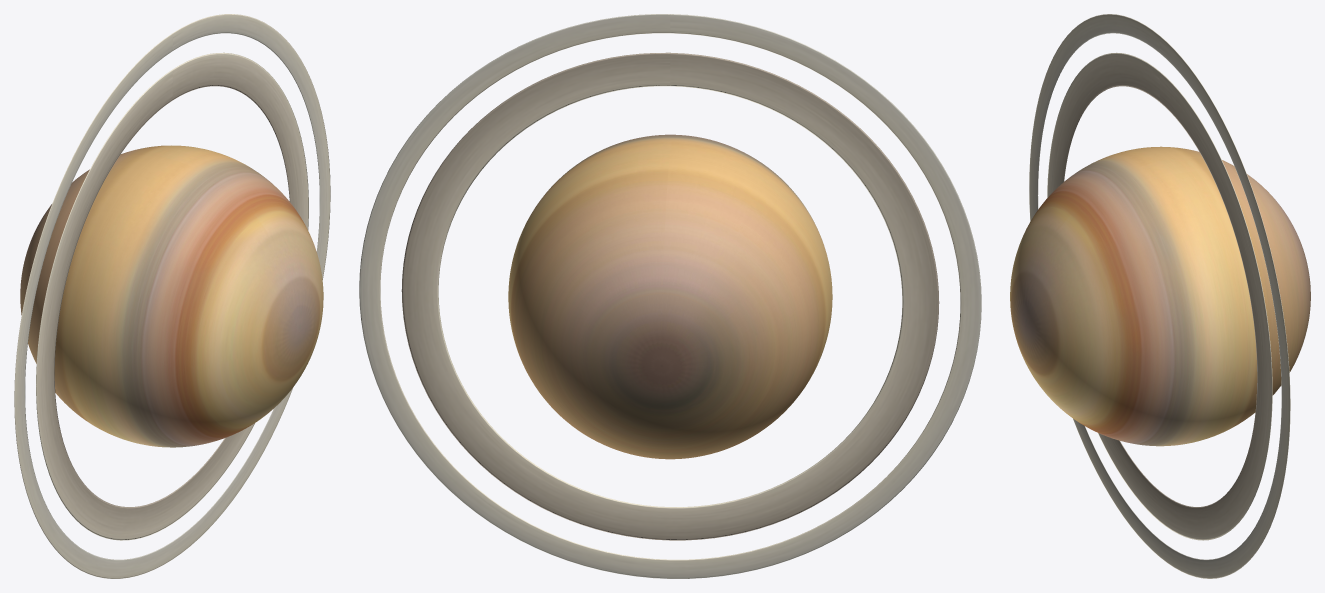
File: satrun.obj
3 renders of one model, left to right at view 1: azimuth 30°, elevation 25°; view 2: azimuth 150°, elevation 25°; view 3: azimuth 270°, elevation 25°, orthographic. The views are drawn at different scales.
Visible parts, largest first — view 1: 13906_Saturn_v1_l3.001; view 2: 13906_Saturn_v1_l3.001; view 3: 13906_Saturn_v1_l3.001.
Boxes of the visible parts, bbox=[...] form: 13906_Saturn_v1_l3.001: bbox=[14, 14, 330, 578]; 13906_Saturn_v1_l3.001: bbox=[359, 14, 981, 578]; 13906_Saturn_v1_l3.001: bbox=[1010, 14, 1310, 578].
Bounding box in the file's own units: 861 × 966 × 505.
2 materials, 2 textured.
